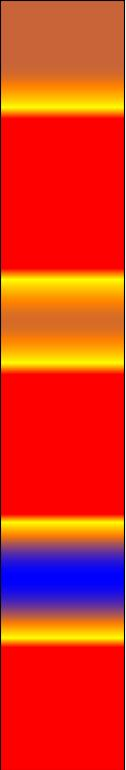Thermal Runaway: (9, 94, 108, 293), (10, 349, 112, 529), (11, 631, 115, 766)
critical: (10, 9, 118, 83), (13, 303, 111, 336), (10, 611, 120, 625), (9, 534, 120, 544)
safe: (5, 553, 122, 601)
